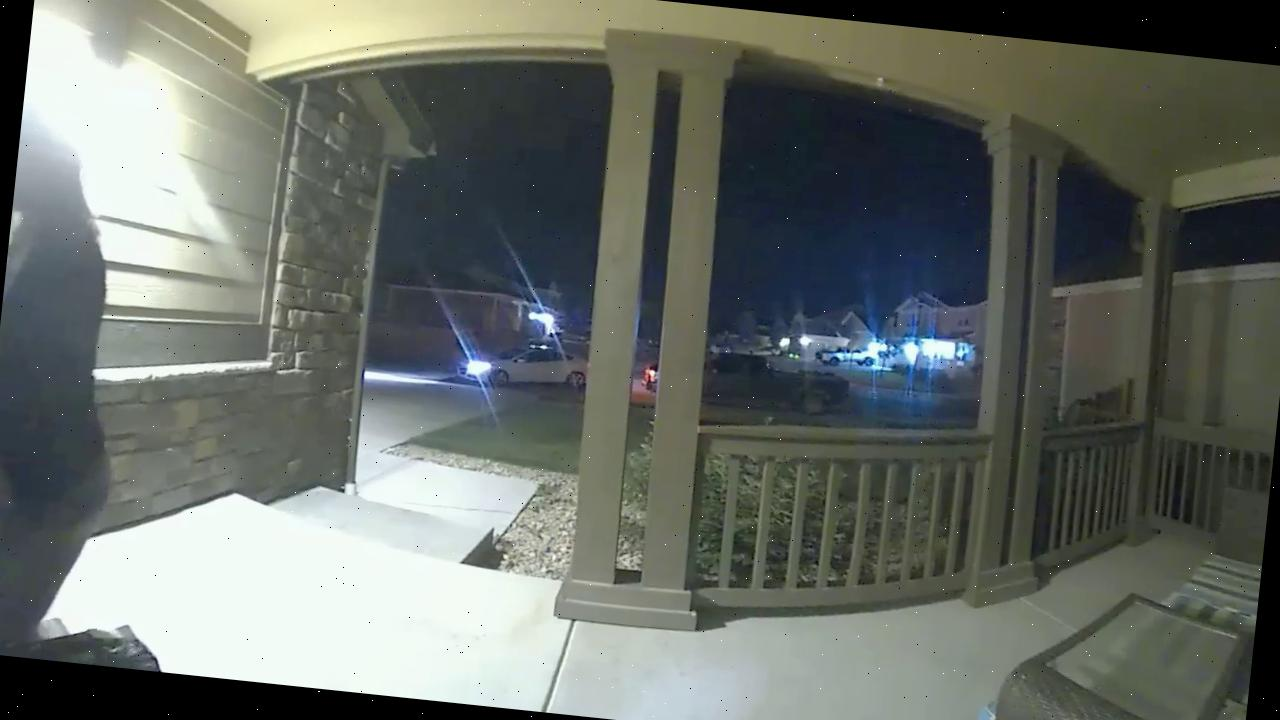suspicion: (0, 13, 270, 676)
